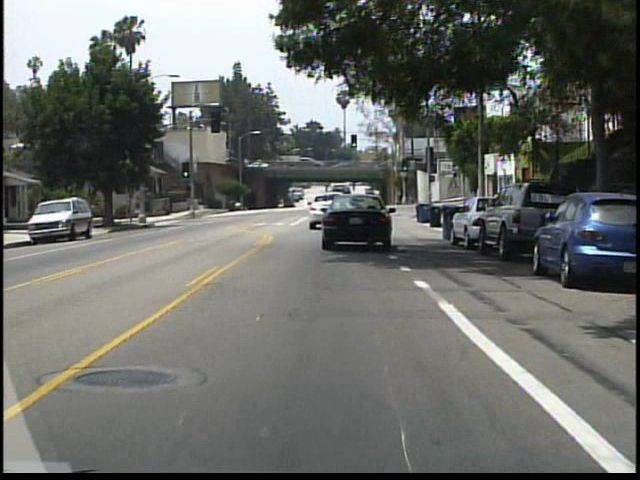person: (91, 199, 102, 227)
